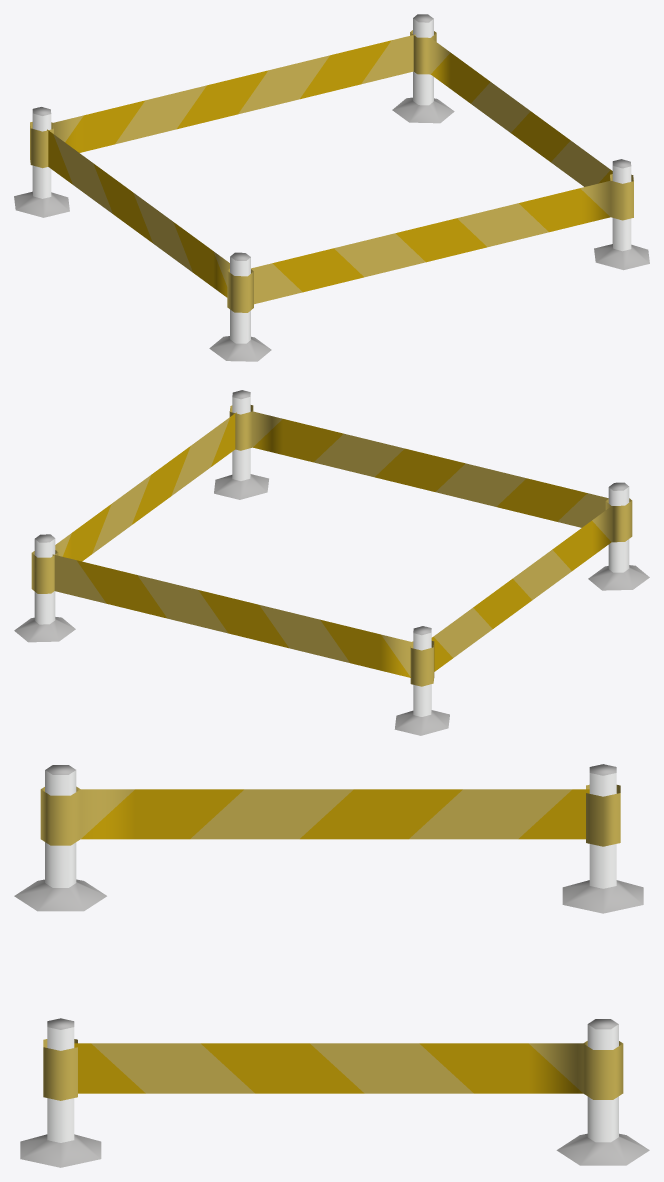
File: zone1.fbx
The picture shows the model from 3 angles, top to bottom: view 1: azimuth 30°, elevation 25°; view 2: azimuth 150°, elevation 25°; view 3: azimuth 270°, elevation 25°; orthographic projection. The views are drawn at different scales.
Parts seen in each view (by area): view 1: project_08.001; view 2: project_08.001; view 3: project_08.001.
Part boxes in pixels (x1,y1,x2,y2): project_08.001: (14, 14, 649, 361); project_08.001: (14, 390, 649, 735); project_08.001: (14, 764, 649, 1167).
Size of the model in its own units: 57.89 by 12.67 by 62.31.
